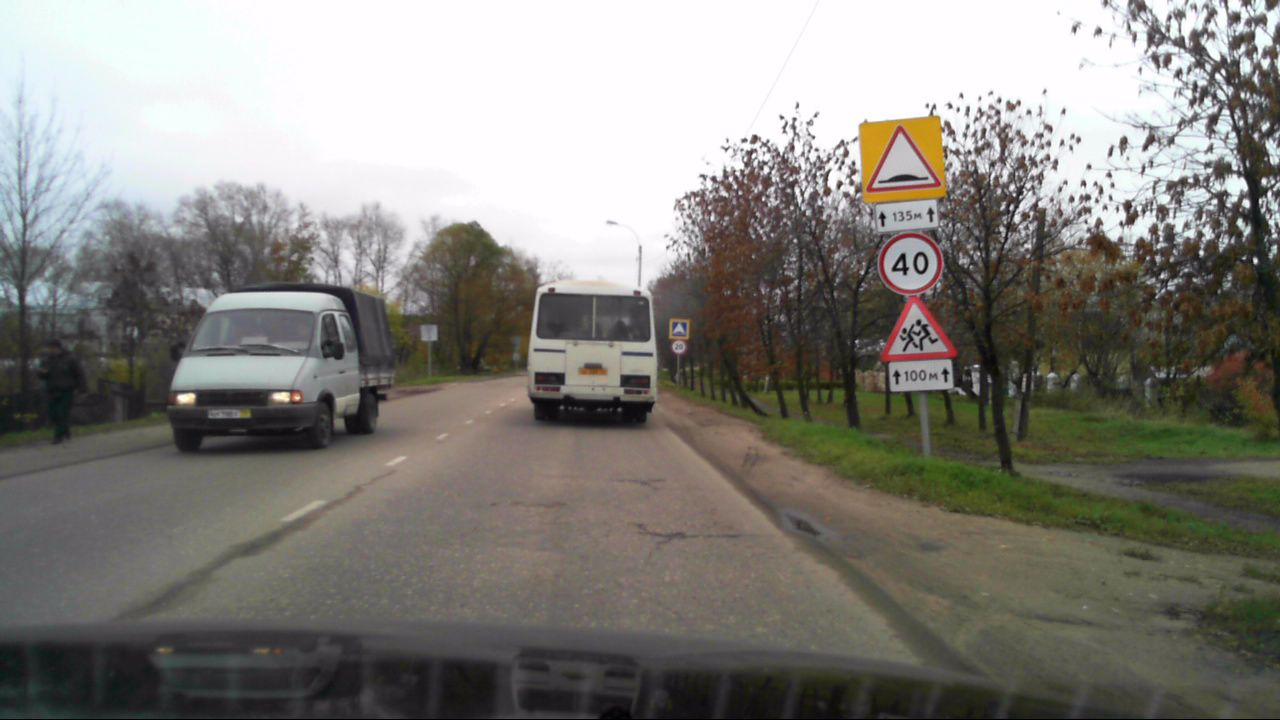speed_warning_40: (878, 230, 943, 297)
